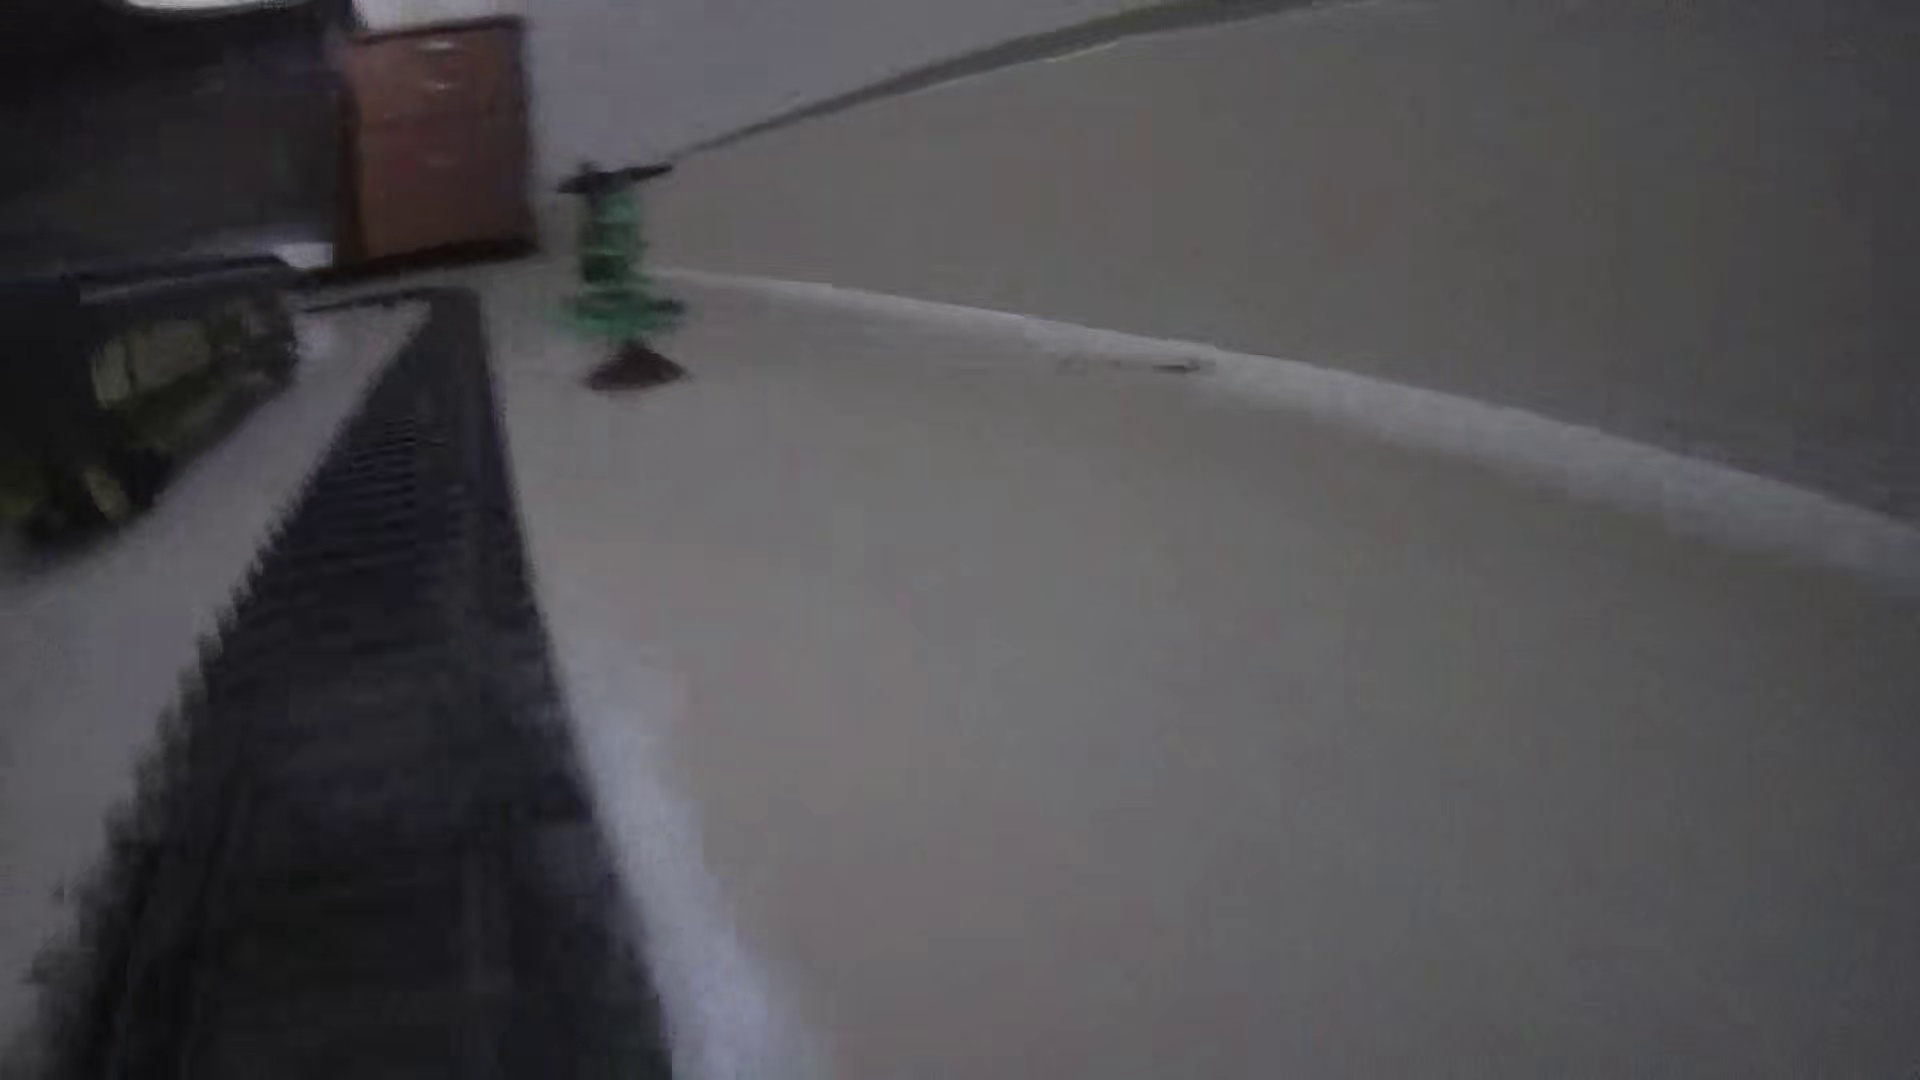tree: (565, 162, 691, 398)
